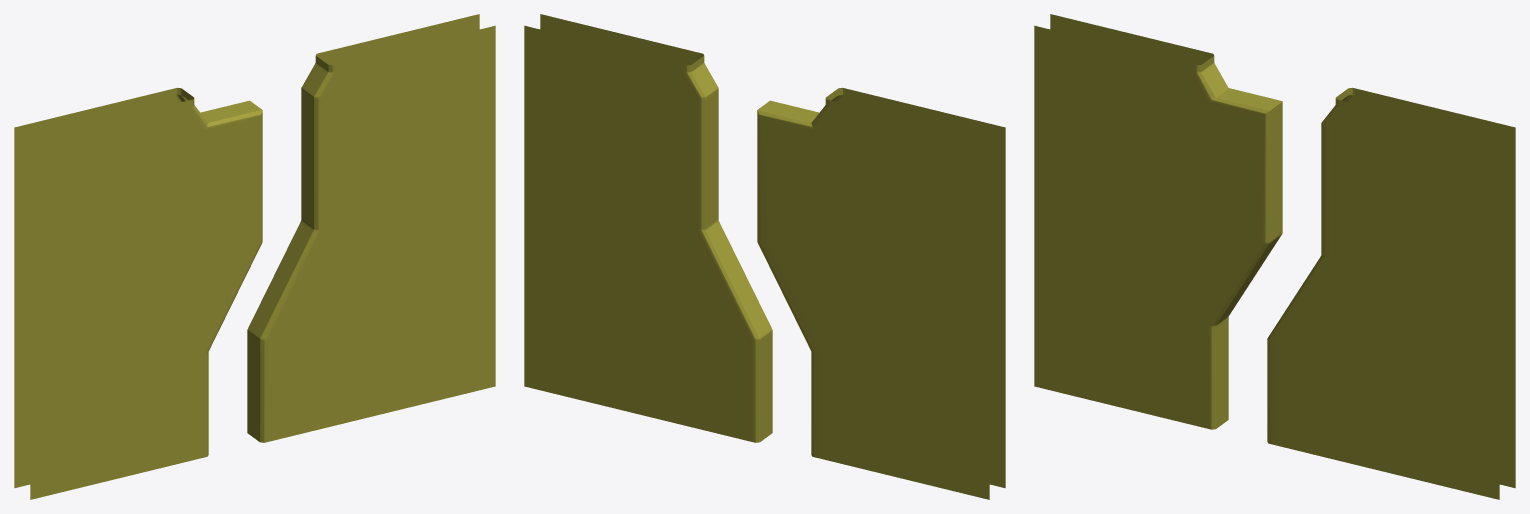
Rendered from ElevatorHigh.FBX.
3 views of the same model, side by side, from view 1: azimuth 30°, elevation 25°; view 2: azimuth 150°, elevation 25°; view 3: azimuth 330°, elevation 25° (orthographic).
Visible parts, largest first — view 1: Box006, Object006; view 2: Box006, Object006; view 3: Box006, Object006.
Part boxes in pixels (x1,y1,x2,y2): Box006: (14, 87, 262, 499); Object006: (247, 14, 495, 442); Box006: (757, 87, 1005, 499); Object006: (524, 14, 772, 442); Box006: (1034, 14, 1282, 429); Object006: (1267, 87, 1515, 499).
Size of the model in its own units: 133 by 7.87 by 98.43.
